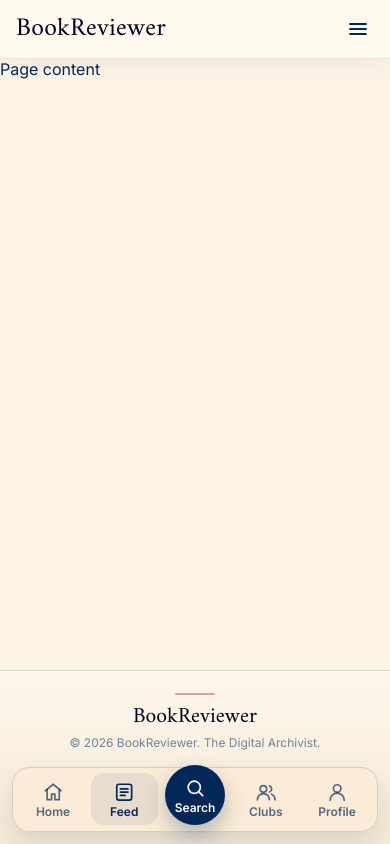
Test: AppChrome phone menu › closes after following a link
This screenshot has width=390, height=844.
What coordinates should you click on to do the following:
click the button named "Open menu"
I would click on:
 (358, 29)
Its box is [336,7,380,51].
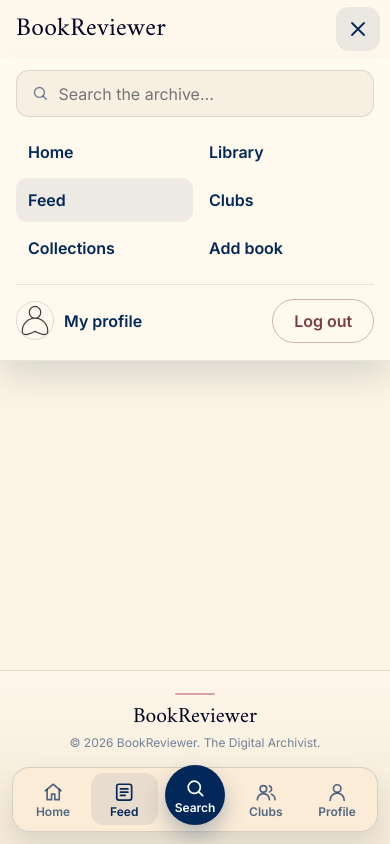
What coordinates should you click on to do the following:
click the link "Clubs" below "Library"
I would click on:
 (231, 200)
Its box is [209,190,254,210].
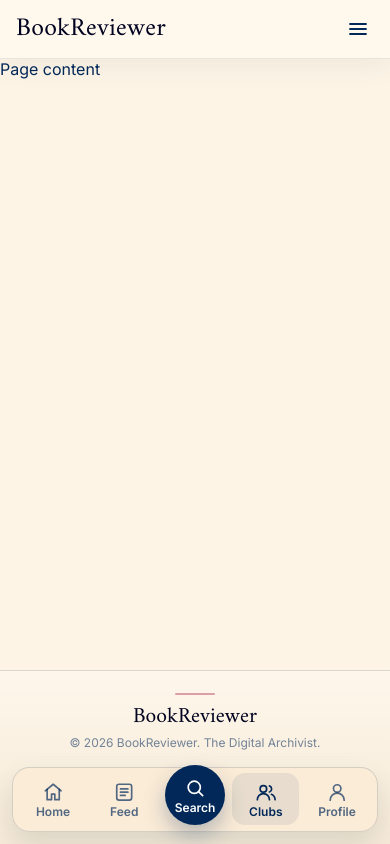
Expected: the button named "Open menu" is collapsed, [336,7,380,51]
